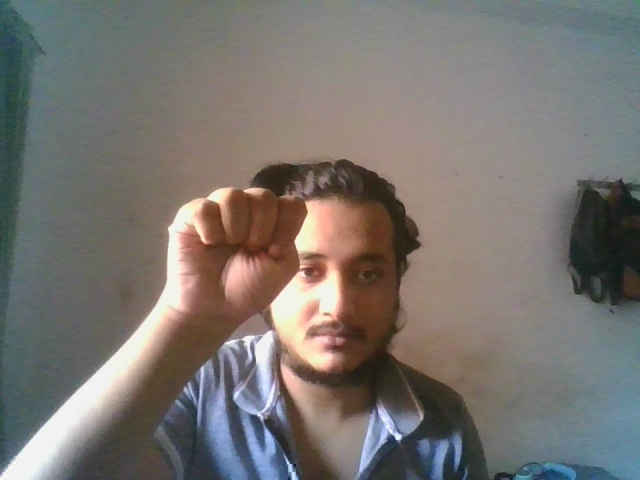Close: (164, 187, 307, 319)
